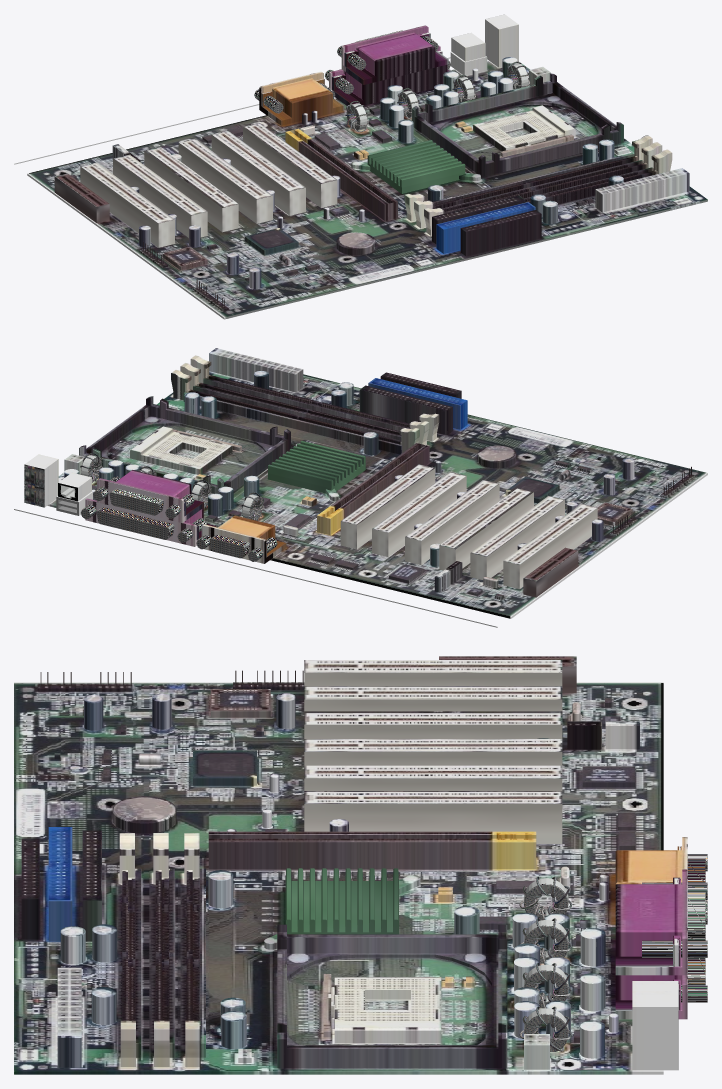
The model's file is motherboard.dae.
The picture shows the model from 3 angles, top to bottom: view 1: azimuth 30°, elevation 25°; view 2: azimuth 150°, elevation 25°; view 3: azimuth 270°, elevation 25°; orthographic projection. The views are drawn at different scales.
Parts seen in each view (by area): view 1: mainboard; view 2: mainboard; view 3: mainboard.
Part boxes in pixels (bbox=[...]): mainboard: bbox=[14, 14, 707, 319]; mainboard: bbox=[14, 348, 707, 627]; mainboard: bbox=[14, 656, 707, 1074].
Bounding box in the file's own units: 2.5 × 1.88 × 0.238.
Materials: 1 (1 with a texture image).
